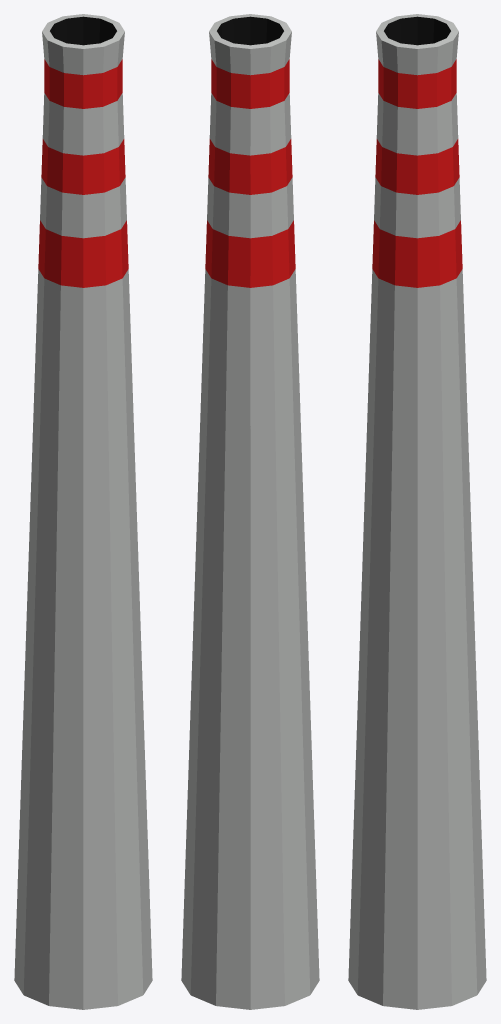
The model's file is SM_Factory_Smoke_pipe_02.glb.
3 renders of one model, left to right at view 1: azimuth 30°, elevation 25°; view 2: azimuth 150°, elevation 25°; view 3: azimuth 270°, elevation 25°, orthographic.
Parts seen in each view (by area): view 1: SM_Factory_Smoke_pipe_02; view 2: SM_Factory_Smoke_pipe_02; view 3: SM_Factory_Smoke_pipe_02.
Part boxes in pixels (x1,y1,x2,y2): SM_Factory_Smoke_pipe_02: (14, 14, 152, 1009); SM_Factory_Smoke_pipe_02: (181, 14, 319, 1009); SM_Factory_Smoke_pipe_02: (348, 14, 486, 1009).
Bounding box in the file's own units: 2.85 × 21.65 × 2.85.
1 material, 1 textured.
